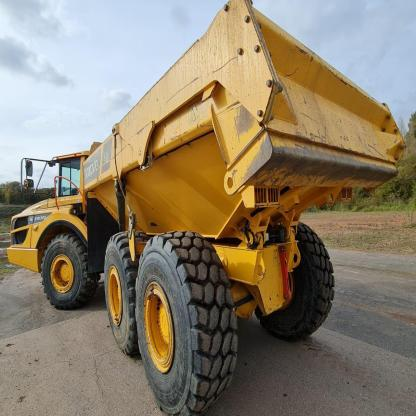dump_truck: (5, 2, 411, 416)
